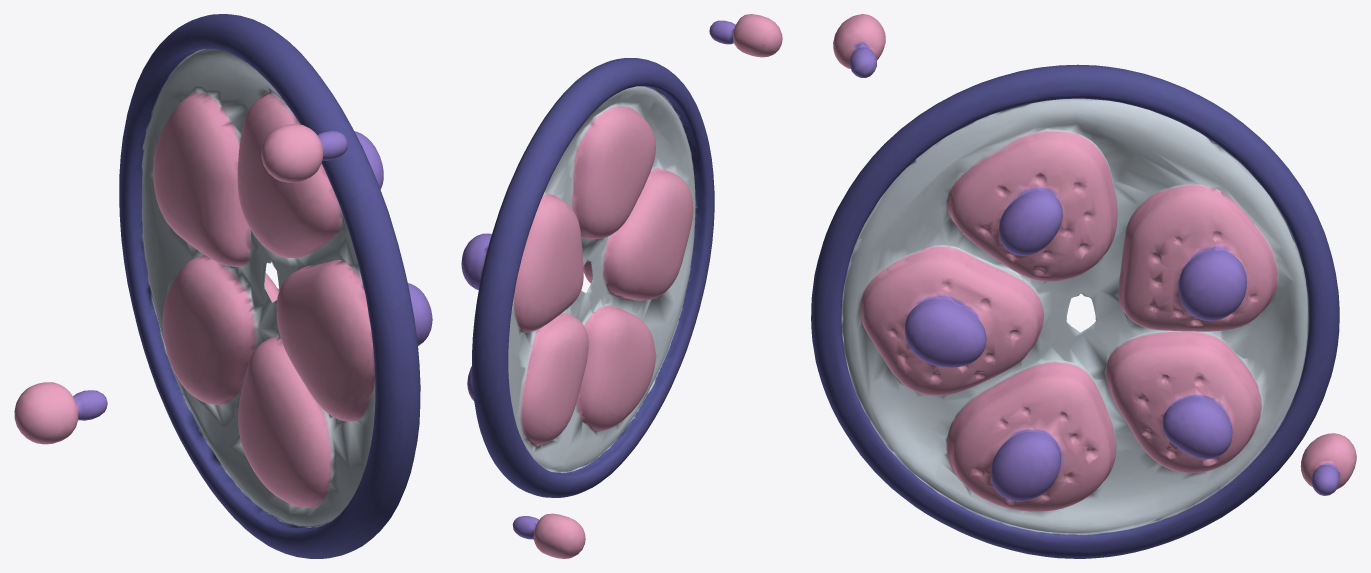
The model's file is vetrino.glb.
The picture shows the model from 3 angles, left to right: view 1: azimuth 30°, elevation 25°; view 2: azimuth 150°, elevation 25°; view 3: azimuth 270°, elevation 25°; orthographic projection. The views are drawn at different scales.
Parts seen in each view (by area): view 1: tripo_node_6f465899-0dd6-4b9f-930a-448f38bde6fd; view 2: tripo_node_6f465899-0dd6-4b9f-930a-448f38bde6fd; view 3: tripo_node_6f465899-0dd6-4b9f-930a-448f38bde6fd.
Boxes of the visible parts, x1,y1,x2,y2 form: tripo_node_6f465899-0dd6-4b9f-930a-448f38bde6fd: [14, 14, 432, 558]; tripo_node_6f465899-0dd6-4b9f-930a-448f38bde6fd: [461, 14, 782, 558]; tripo_node_6f465899-0dd6-4b9f-930a-448f38bde6fd: [811, 14, 1356, 558].
Bounding box in the file's own units: 0.4052 × 0.9796 × 0.9782.
1 material, 1 textured.
